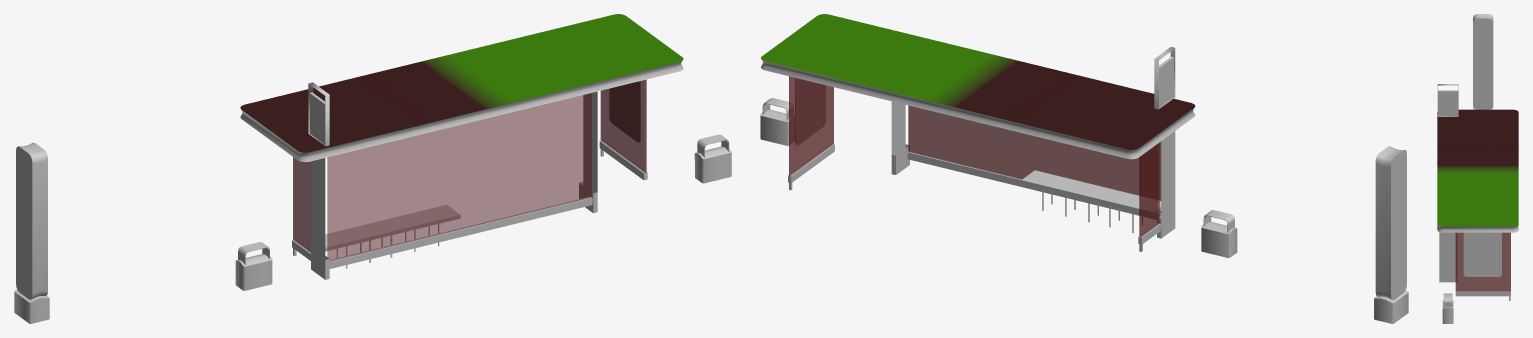
The model's file is SM_BusStop_v01.fbx.
3 renders of one model, left to right at view 1: azimuth 30°, elevation 25°; view 2: azimuth 150°, elevation 25°; view 3: azimuth 270°, elevation 25°, orthographic. The views are drawn at different scales.
Visible parts, largest first — view 1: BusStop_v01; view 2: BusStop_v01; view 3: BusStop_v01.
Part boxes in pixels (left/top/right/bottom): BusStop_v01: left=14, top=14, right=731, bottom=323; BusStop_v01: left=760, top=14, right=1408, bottom=323; BusStop_v01: left=1437, top=14, right=1518, bottom=323.
Bounding box in the file's own units: 15.09 × 3.92 × 2.51.
